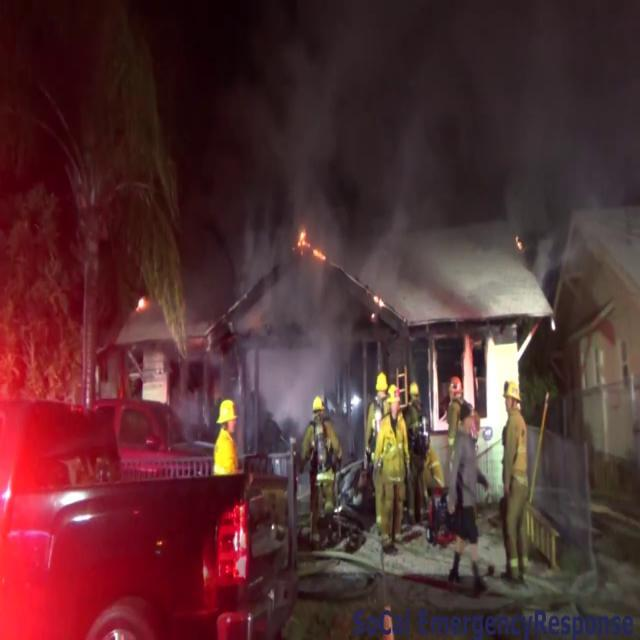Fire: (292, 217, 326, 264)
Smoke: (187, 0, 637, 398)
